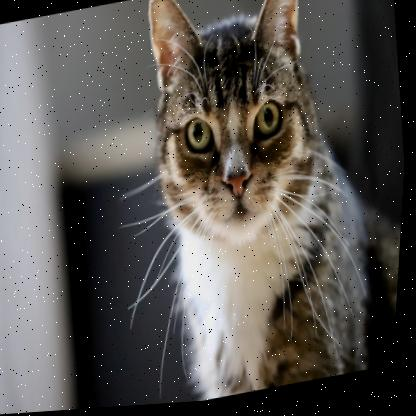cat: (122, 0, 358, 406)
